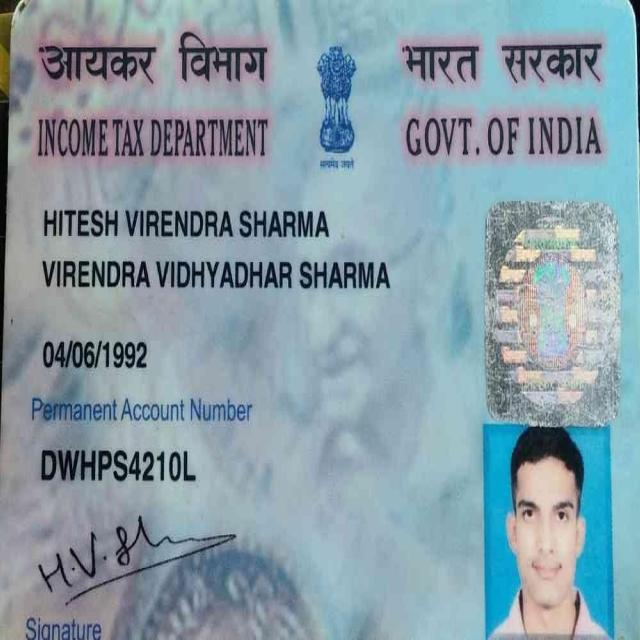pan_card: (13, 0, 640, 640)
